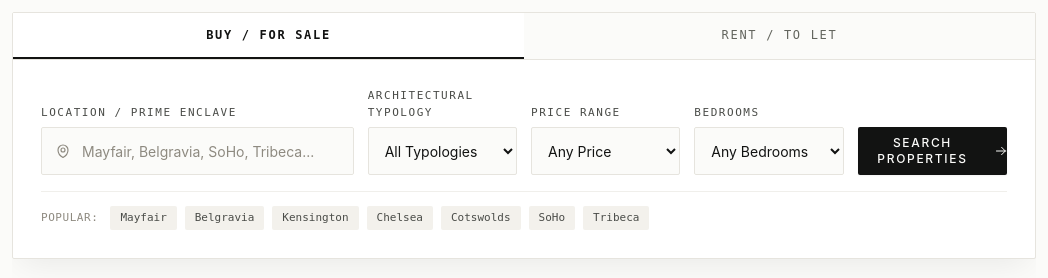
Scenario: Milestone 4: Brand Pages & Inquiry Components › QuickDiscoveryConsole › populates location when clicking prime enclave suggestions
Click the button "Mayfair" at {"x": 144, "y": 218}, box [110, 206, 177, 230]
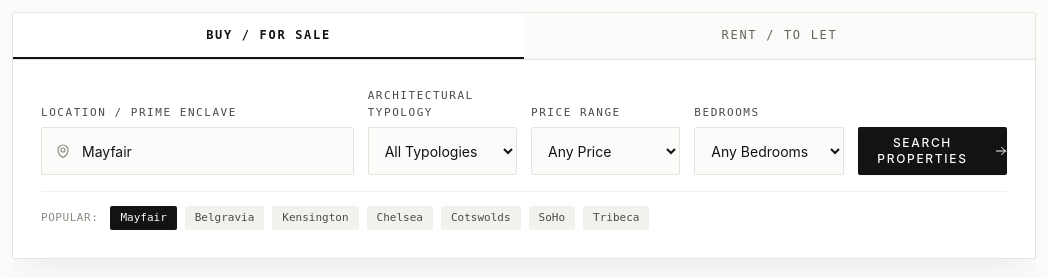
Now the field with placeholder "Mayfair, Belgravia, SoHo, Tribeca..." holds "Mayfair", box [41, 127, 354, 175]
